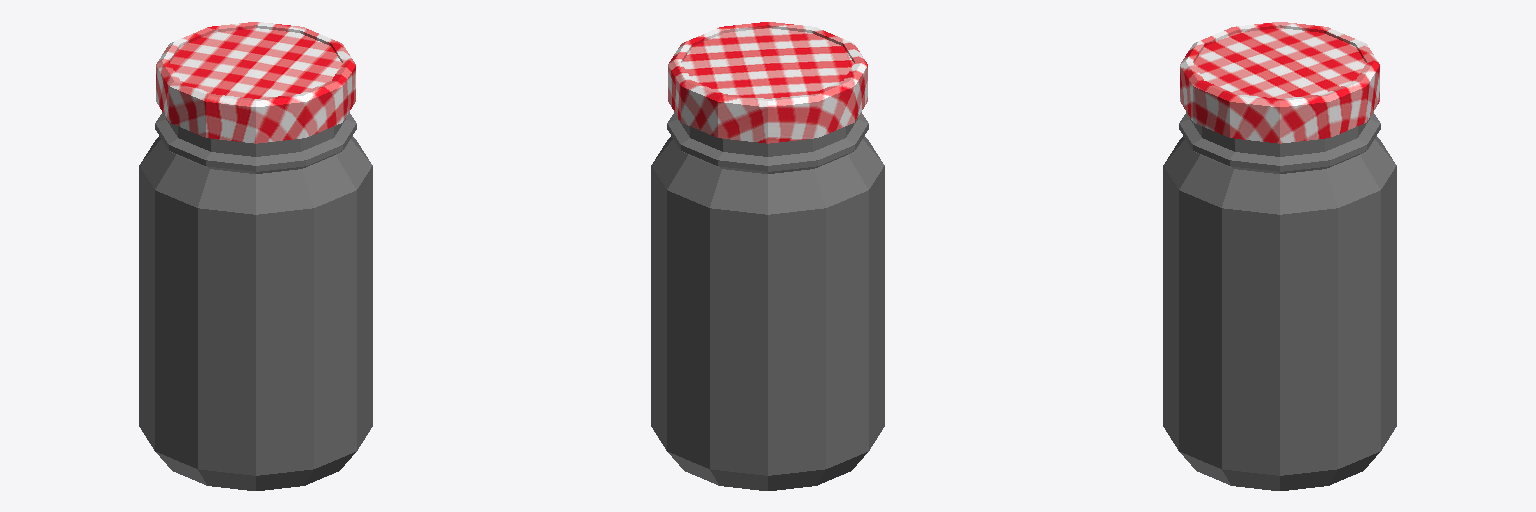
3 renders of one model, left to right at view 1: azimuth 30°, elevation 25°; view 2: azimuth 150°, elevation 25°; view 3: azimuth 270°, elevation 25°, orthographic.
Bounding box in the file's own units: 2 × 3.68 × 2.
Materials: 3 (1 with a texture image).